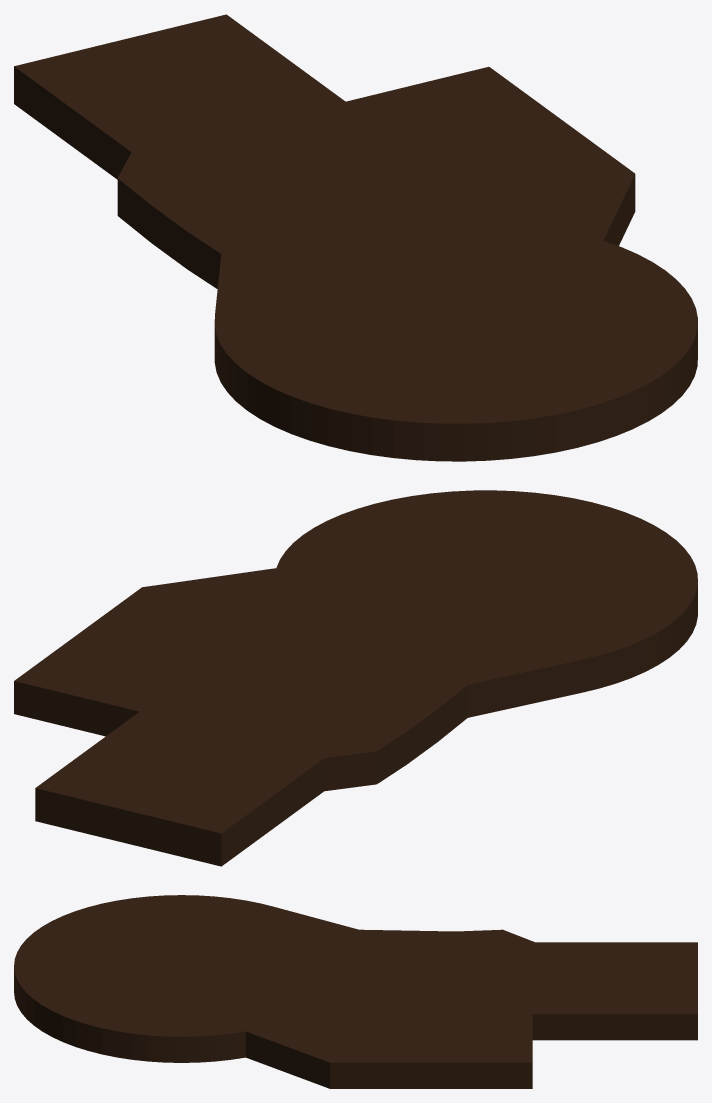
File: house_floor.glb
The picture shows the model from 3 angles, top to bottom: view 1: azimuth 30°, elevation 25°; view 2: azimuth 150°, elevation 25°; view 3: azimuth 270°, elevation 25°; orthographic projection. The views are drawn at different scales.
Parts seen in each view (by area): view 1: Plane.007; view 2: Plane.007; view 3: Plane.007.
Part boxes in pixels (<box>): Plane.007: <box>14,14,697,461</box>; Plane.007: <box>14,490,697,866</box>; Plane.007: <box>14,895,697,1088</box>.
Bounding box in the file's own units: 27.36 × 2.13 × 47.18.
Materials: 1 (1 with a texture image).
